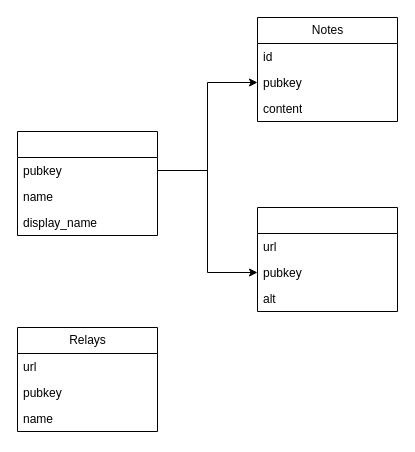
This 415x452 diagram has some shape labels left out. The box of each missing label's shape, as (x1, y1, x2, y2) in pixels:
files: (256, 206, 398, 312)
Users: (16, 130, 158, 236)
